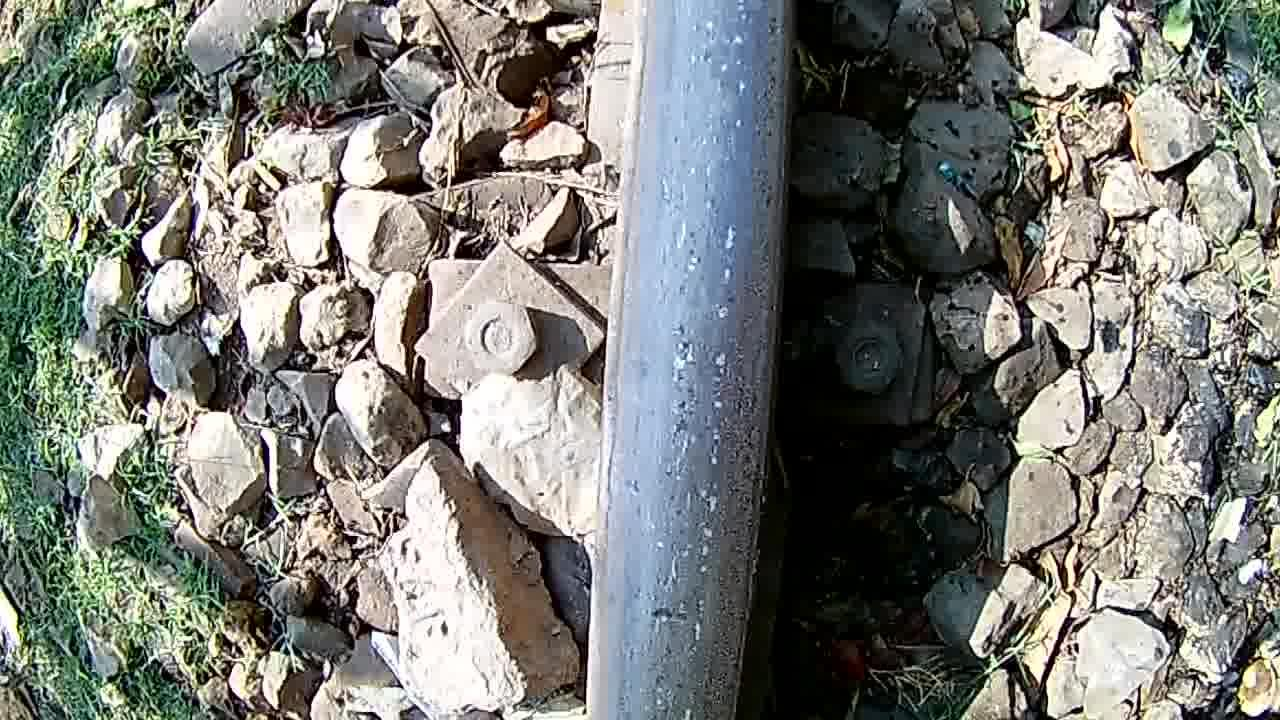clip_missing: (586, 0, 809, 720)
